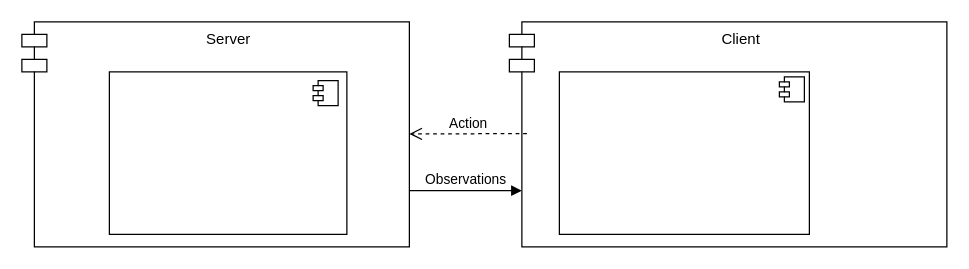
Image size: 969x269. Some labels were removed from this diagram. The shapes that lost their labels are listed below. From the top down, each one's centre as x and y in pixels, then its label:
At point (227, 152): "«Problem» Environment RewardFunc Agent".
At point (683, 152): "Training and Testing Model: MLP Algorithm: A3C".
